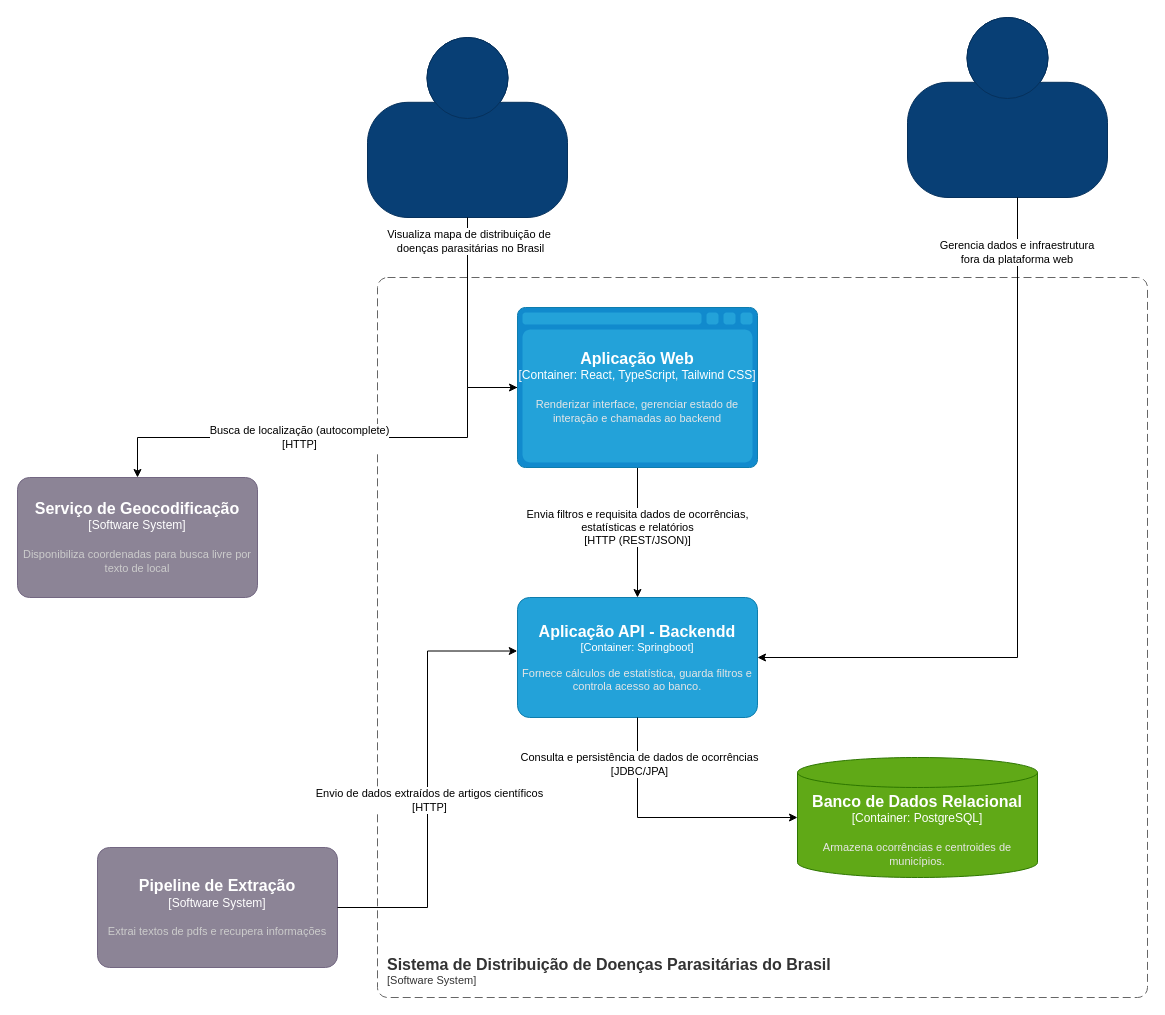
Some shapes in this 1165 by 1015 pixel diagram are drawn without their labels. The centre of each missing label's shape, as x and y in pixels:
Administrador [Person] Mantém o dados do sistema atualizados e o sistema no ar: (x=1007, y=107)
Usuário público [Person] Pesquisadores, parasitologistas e veterinários: (x=467, y=127)
